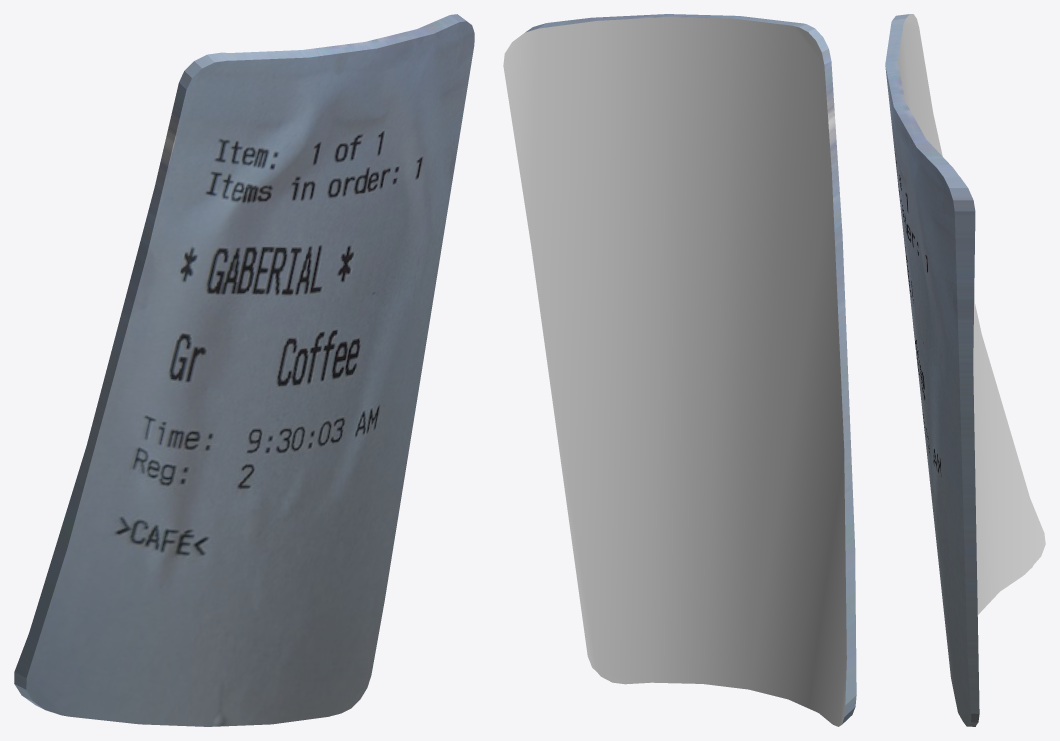
File: StarbucksLabel.fbx
3 renders of one model, left to right at view 1: azimuth 30°, elevation 25°; view 2: azimuth 150°, elevation 25°; view 3: azimuth 270°, elevation 25°, orthographic. The views are drawn at different scales.
Parts seen in each view (by area): view 1: Cup; view 2: Cup; view 3: Cup.
Boxes of the visible parts, x1,y1,x2,y2 form: Cup: (14,14,474,726); Cup: (503,14,856,726); Cup: (885,14,1045,726).
Size of the model in its own units: 0.0587 by 0.0989 by 0.0226.
